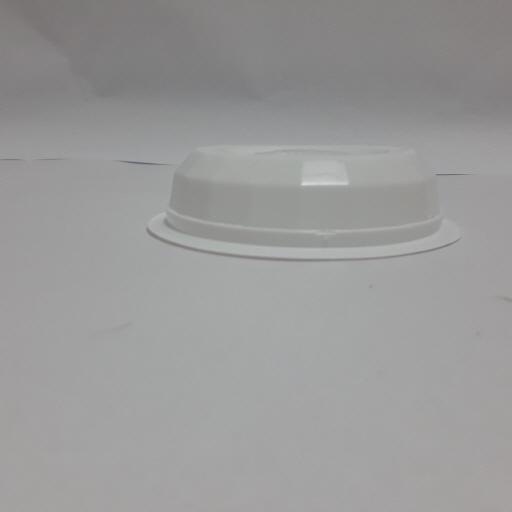Plastic_5: (144, 141, 461, 265)
